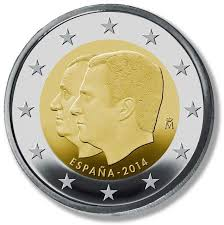eur002: (1, 1, 218, 218)
